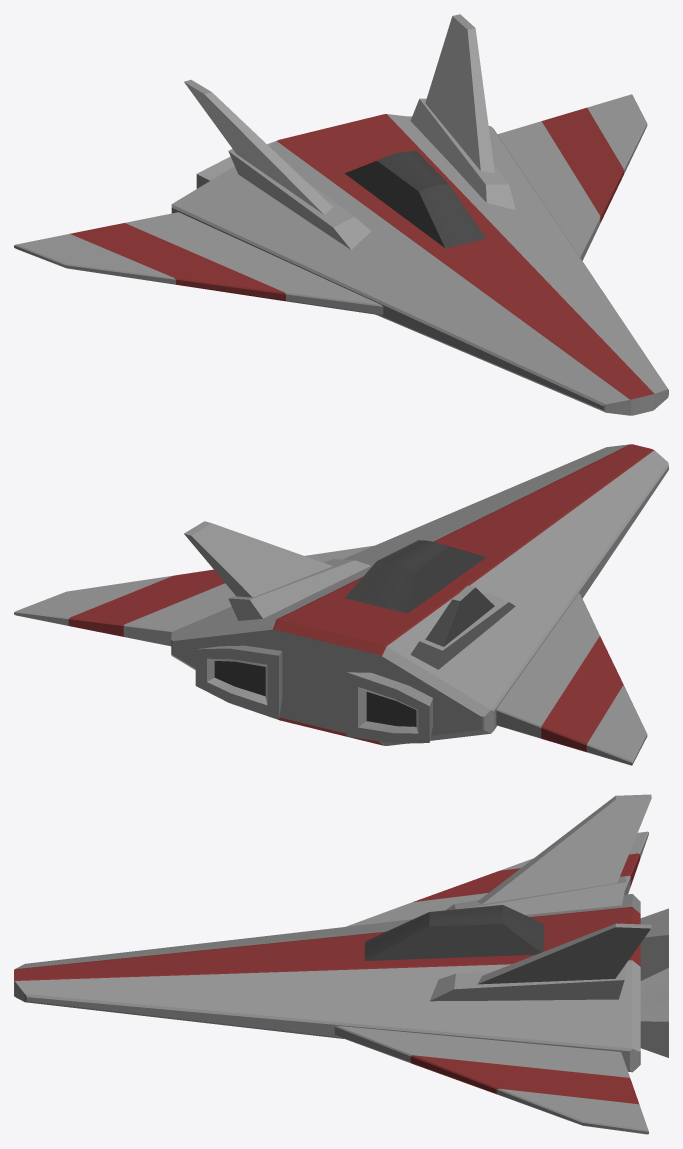
Rendered from PlayerShip.fbx.
3 renders of one model, top to bottom at view 1: azimuth 30°, elevation 25°; view 2: azimuth 150°, elevation 25°; view 3: azimuth 270°, elevation 25°, orthographic.
Parts seen in each view (by area): view 1: Lo_poly_Spaceship_01_by_Liz_Reddington:Lo_poly_Spaceship_01_; view 2: Lo_poly_Spaceship_01_by_Liz_Reddington:Lo_poly_Spaceship_01_; view 3: Lo_poly_Spaceship_01_by_Liz_Reddington:Lo_poly_Spaceship_01_.
Boxes of the visible parts, box(x1,y1,x2,y2) form: Lo_poly_Spaceship_01_by_Liz_Reddington:Lo_poly_Spaceship_01_: box(14, 14, 668, 415); Lo_poly_Spaceship_01_by_Liz_Reddington:Lo_poly_Spaceship_01_: box(14, 444, 668, 765); Lo_poly_Spaceship_01_by_Liz_Reddington:Lo_poly_Spaceship_01_: box(14, 794, 668, 1134).
Size of the model in its own units: 677 by 181 by 625.
